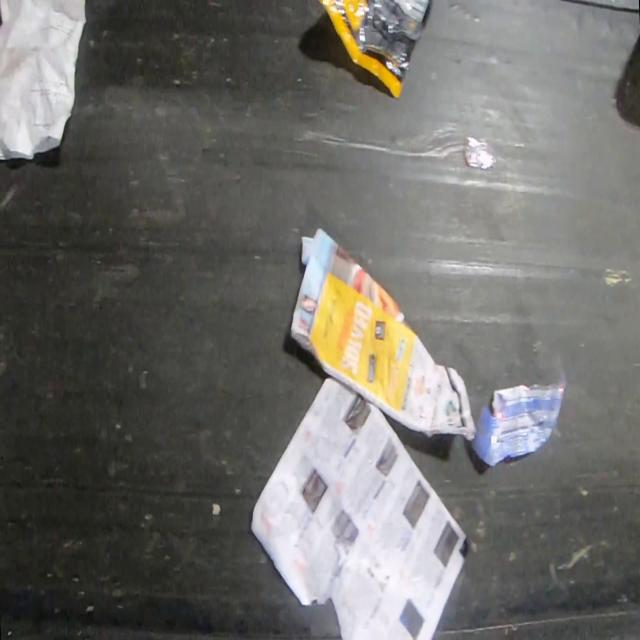cardboard: (288, 225, 476, 441)
soft_plastic: (318, 0, 429, 99), (466, 368, 568, 469)
